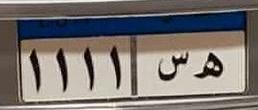1: (106, 41, 125, 90), (81, 43, 99, 94), (54, 47, 71, 92), (28, 46, 44, 91)
haa: (193, 47, 225, 83)
seen: (156, 49, 190, 85)
